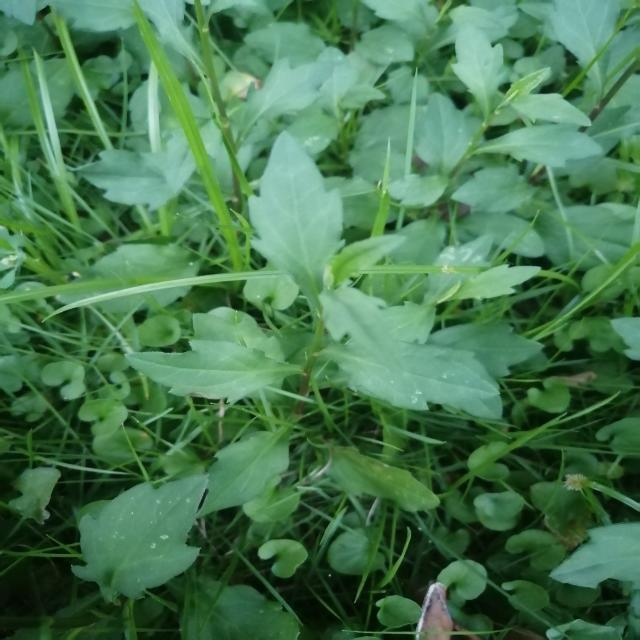Indian aster: (157, 162, 496, 458)
